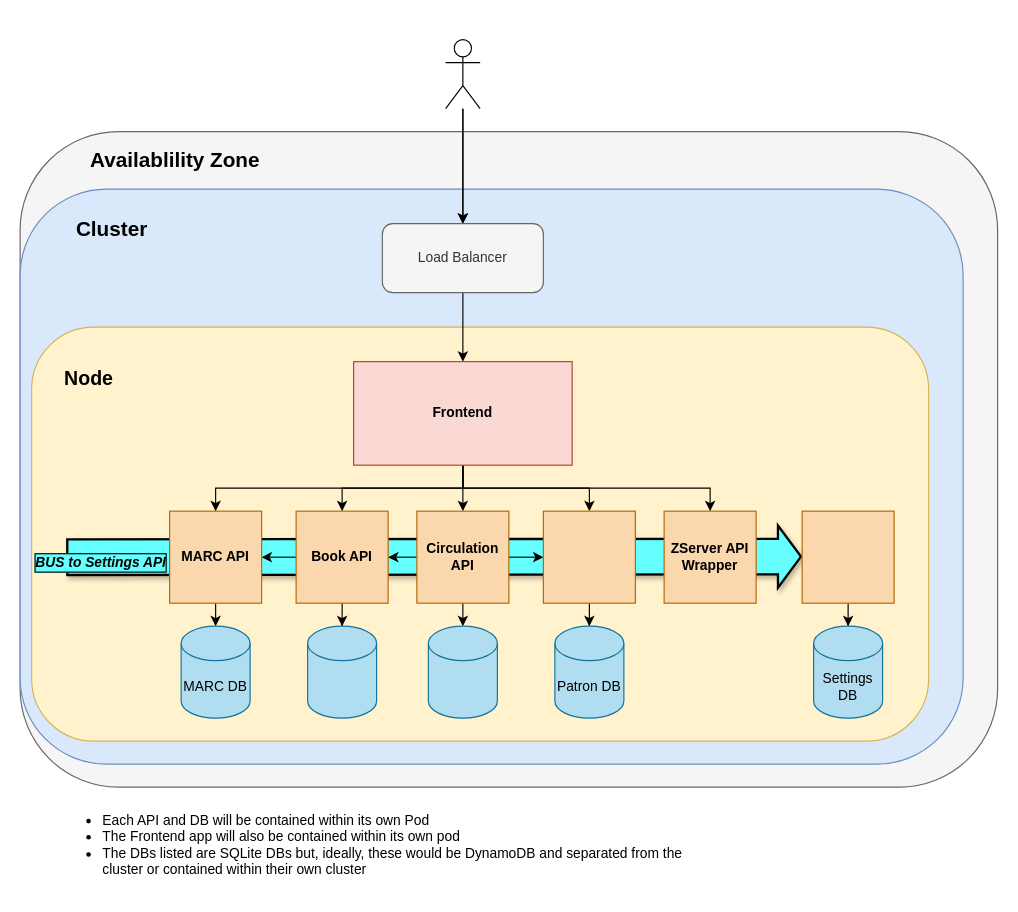
Image size: 1018x912. Some labels were removed from this diagram. The shapes that lost their labels are listed below. From the top down, each one's centre as x and y in pixels, then its label:
the point at 462,74: Requester
the point at 588,556: Patron API
the point at 847,556: Library Settings API
the point at 341,671: Book DB
the point at 462,671: Circulation DB
